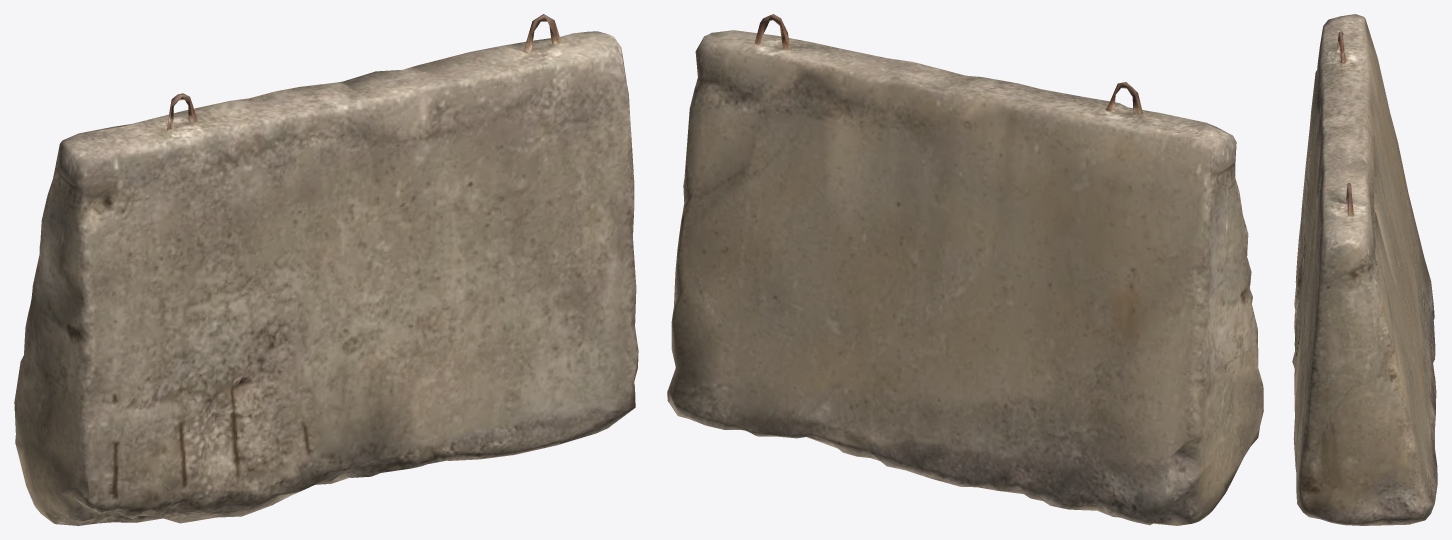
File: concrete_road_barrier_02.glb
3 views of the same model, side by side, from view 1: azimuth 30°, elevation 25°; view 2: azimuth 150°, elevation 25°; view 3: azimuth 270°, elevation 25° (orthographic). The views are drawn at different scales.
Parts seen in each view (by area): view 1: concrete_road_barrier_02; view 2: concrete_road_barrier_02; view 3: concrete_road_barrier_02.
Part boxes in pixels (x1,y1,x2,y2): concrete_road_barrier_02: (14, 14, 638, 525); concrete_road_barrier_02: (667, 14, 1263, 525); concrete_road_barrier_02: (1292, 14, 1437, 525).
Bounding box in the file's own units: 1.56 × 1.11 × 0.4418.
1 material, 1 textured.
